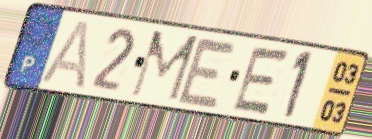1: (281, 48, 317, 122)
2: (88, 27, 138, 94)
A: (37, 18, 93, 92)
E: (174, 34, 241, 112), (228, 44, 294, 119)
M: (126, 28, 202, 105)
